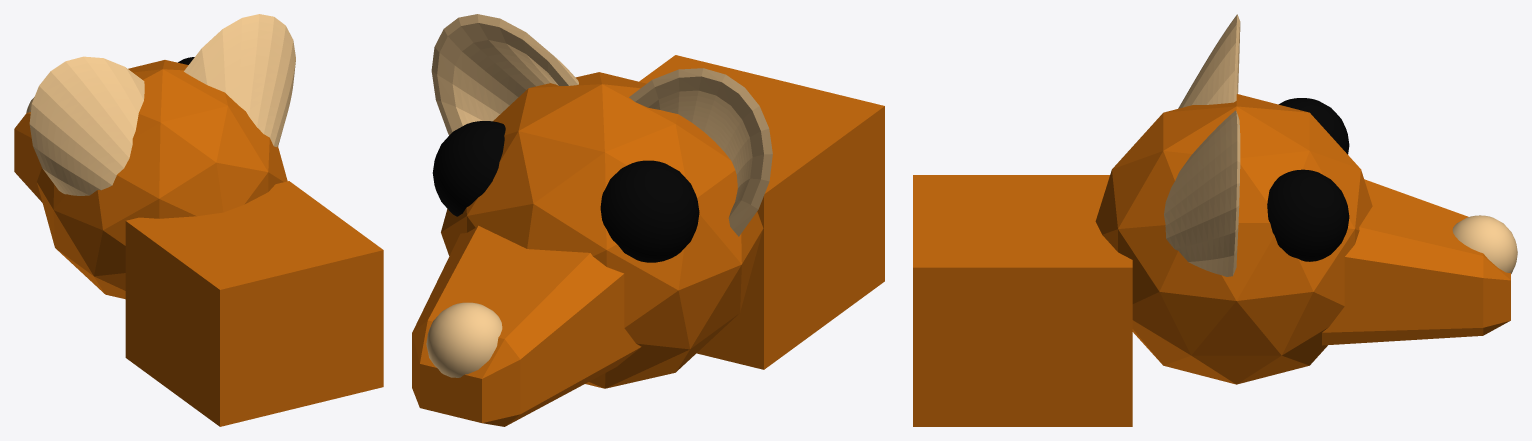
File: rat.fbx
3 renders of one model, left to right at view 1: azimuth 30°, elevation 25°; view 2: azimuth 150°, elevation 25°; view 3: azimuth 270°, elevation 25°, orthographic. The views are drawn at different scales.
Visible parts, largest first — view 1: Cube, Sphere, Loft, Cube_1; view 2: Sphere, Cube, Cube_1, Loft, Sphere_1, Sphere_1_2; view 3: Cube, Sphere, Cube_1, Loft, Sphere_1, Sphere_1_2.
Part boxes in pixels (<box>): Cube: <box>125,181,383,426</box>; Sphere: <box>37,60,287,299</box>; Loft: <box>29,14,295,195</box>; Cube_1: <box>14,112,42,202</box>; Sphere: <box>441,72,763,388</box>; Cube: <box>639,55,884,369</box>; Cube_1: <box>412,225,641,426</box>; Loft: <box>431,14,772,236</box>; Sphere_1: <box>432,121,699,262</box>; Sphere_1_2: <box>426,302,502,377</box>; Cube: <box>913,175,1132,426</box>; Sphere: <box>1095,94,1372,384</box>; Cube_1: <box>1322,179,1510,345</box>; Loft: <box>1164,14,1240,276</box>; Sphere_1: <box>1267,98,1349,261</box>; Sphere_1_2: <box>1452,215,1517,273</box>.
Size of the model in its own units: 81.47 by 78.22 by 138.
